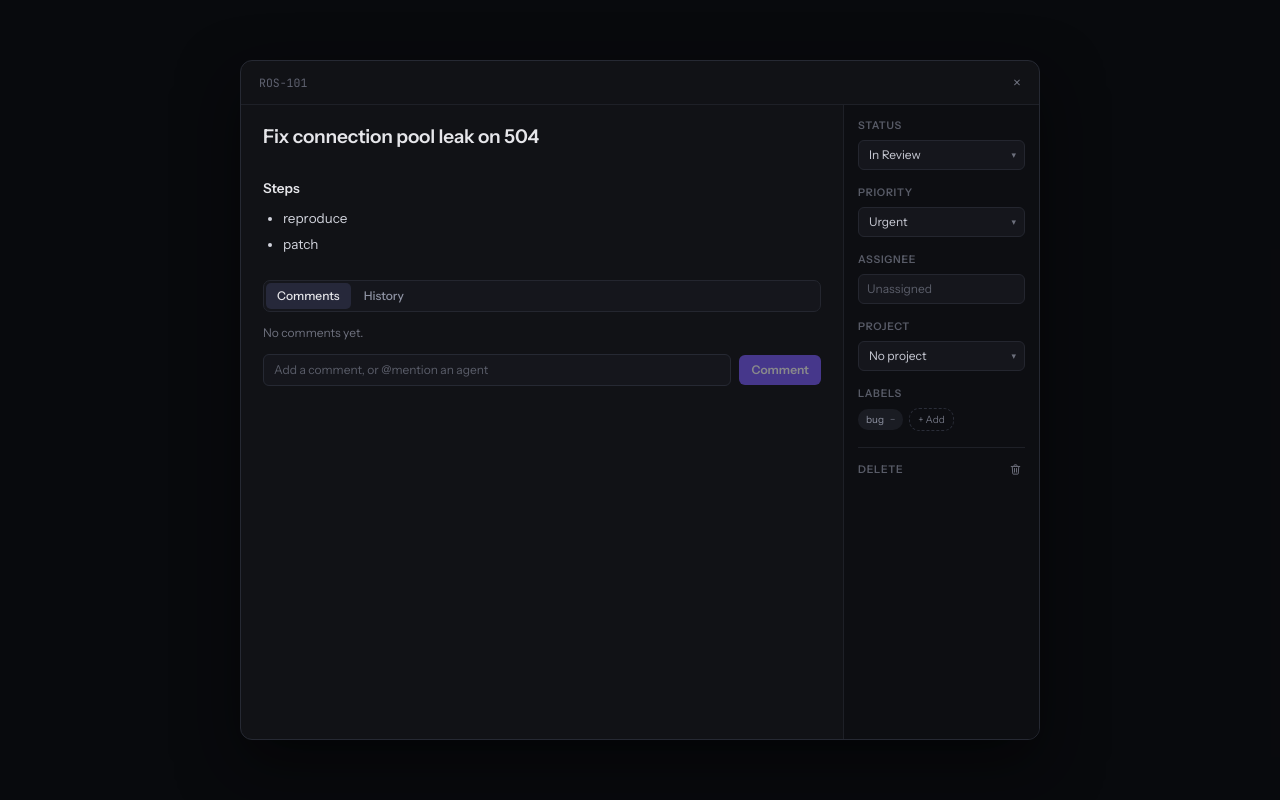
Test: TaskDetailModal — the title › click turns it into an input
Click the button "Fix connection pool leak on 504".
click(401, 137)  # box [257,122,827,153]
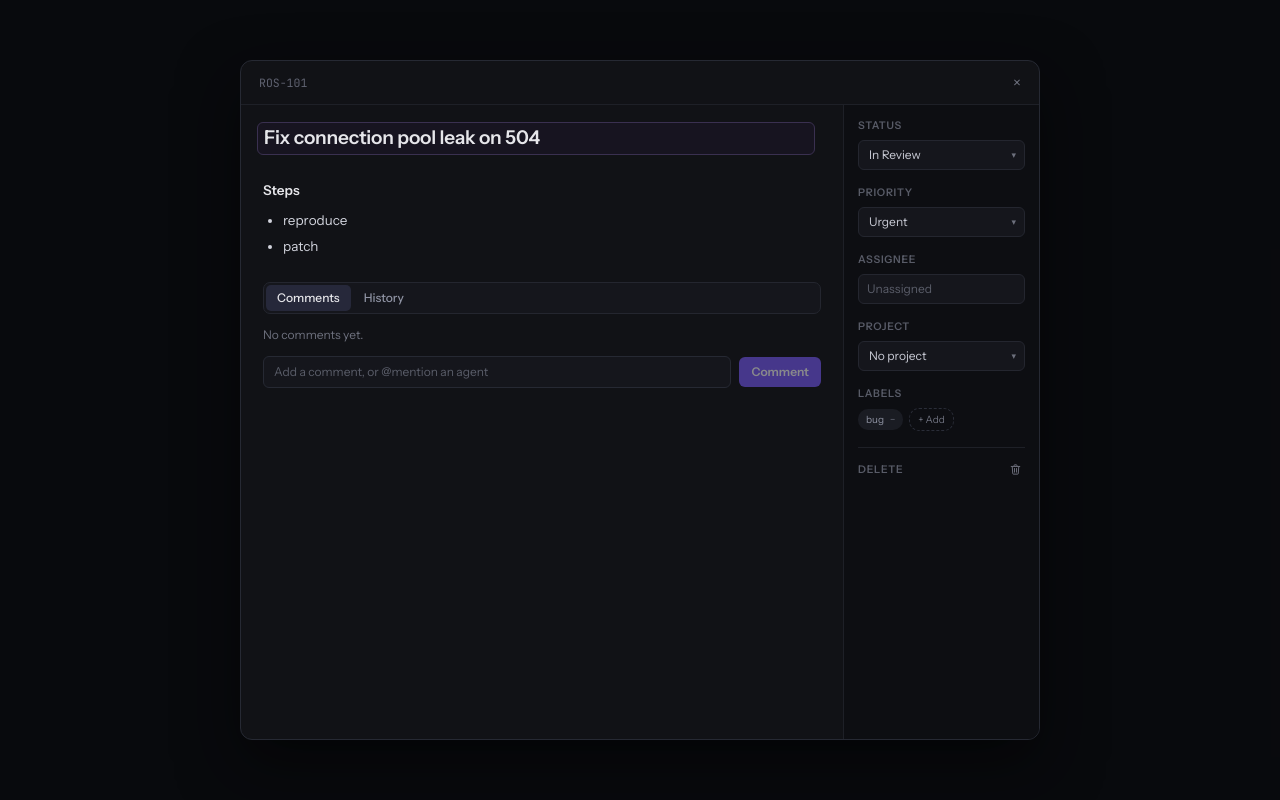
Result: the field named "Task title" holds "Fix connection pool leak on 504" at [257,122,815,155]
